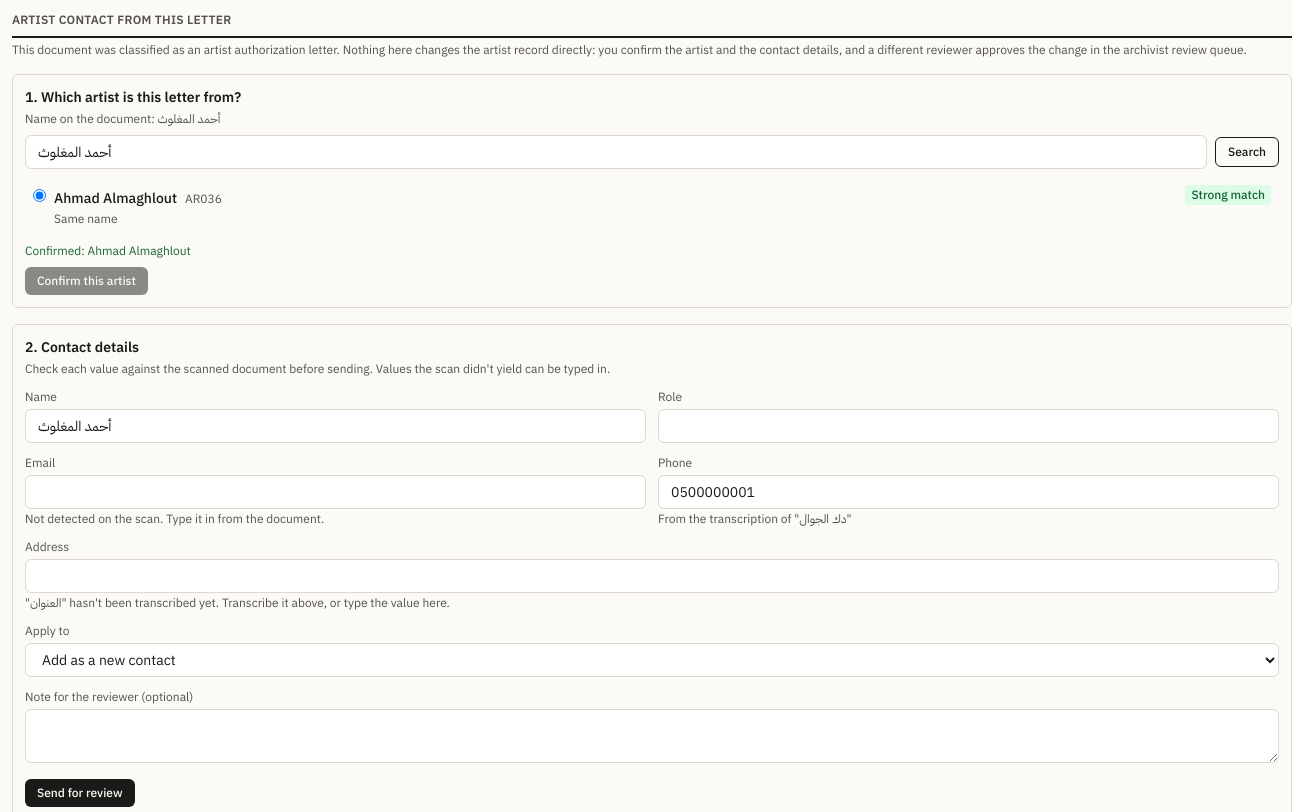
Scenario: OcrArtistContactPanel › proposes the confirmed values and can target an existing contact
Type "ahmad@example.test" into the field with test id "artist-contact-email".
click(336, 492); type("ahmad@example.test")  # box [25,475,646,509]
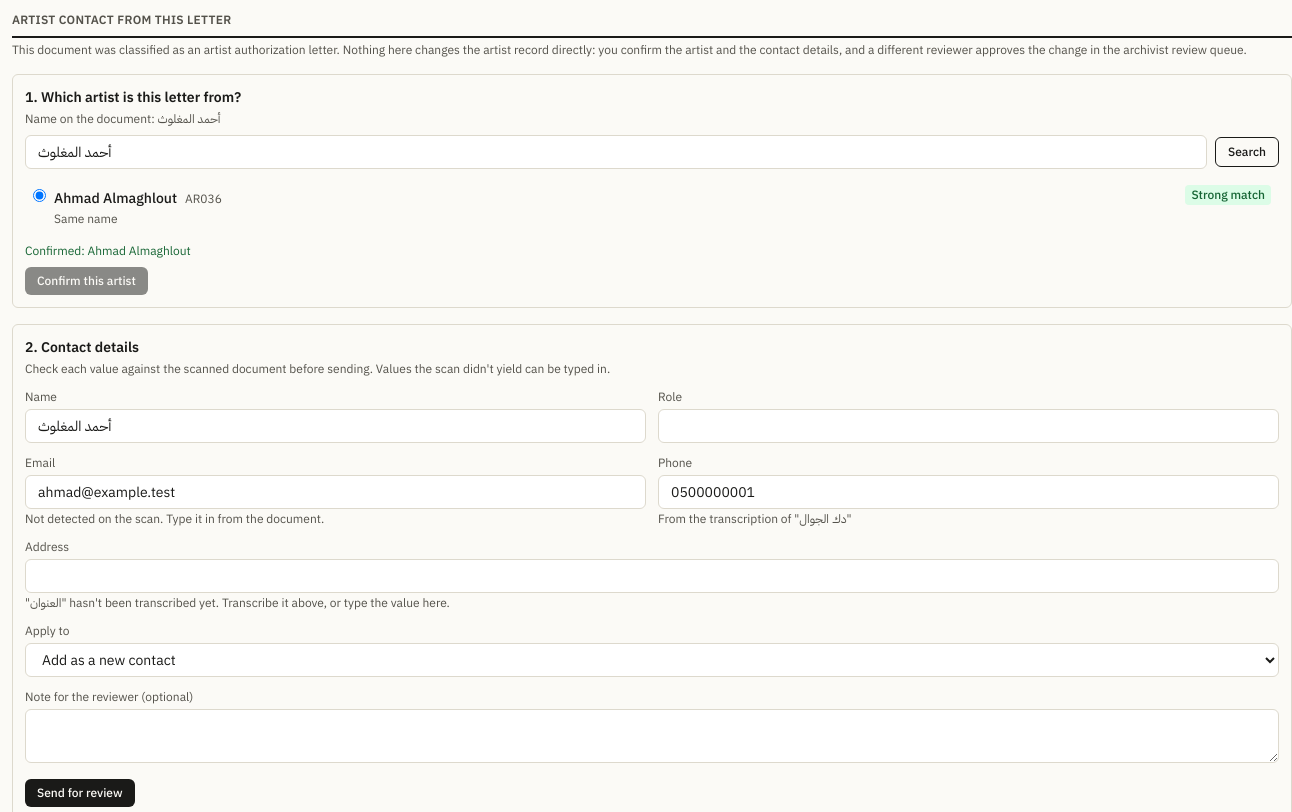
Select "Update Gallery desk" in the dropdown with test id "artist-contact-target" at (652, 660), box [25,643,1279,677]
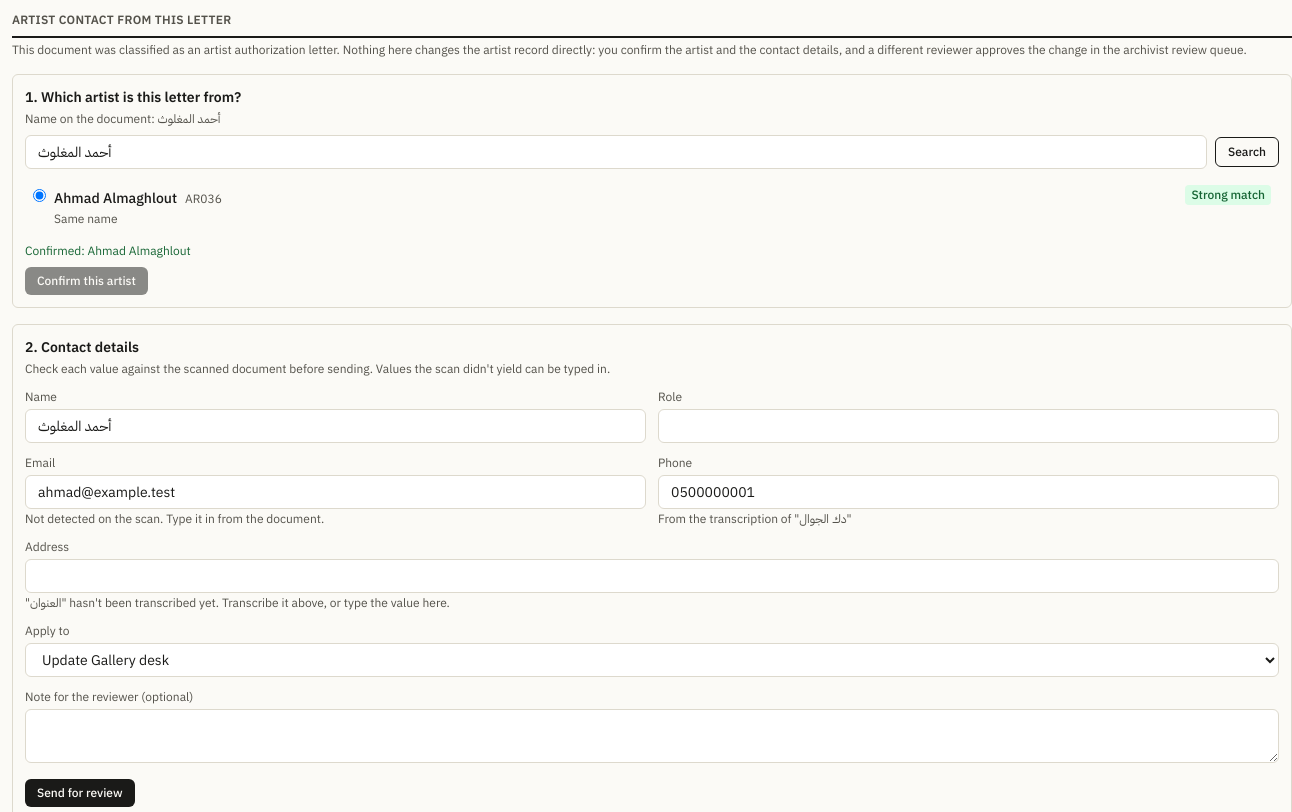
Click the button with test id "artist-contact-propose".
click(80, 793)  # box [25,779,135,807]
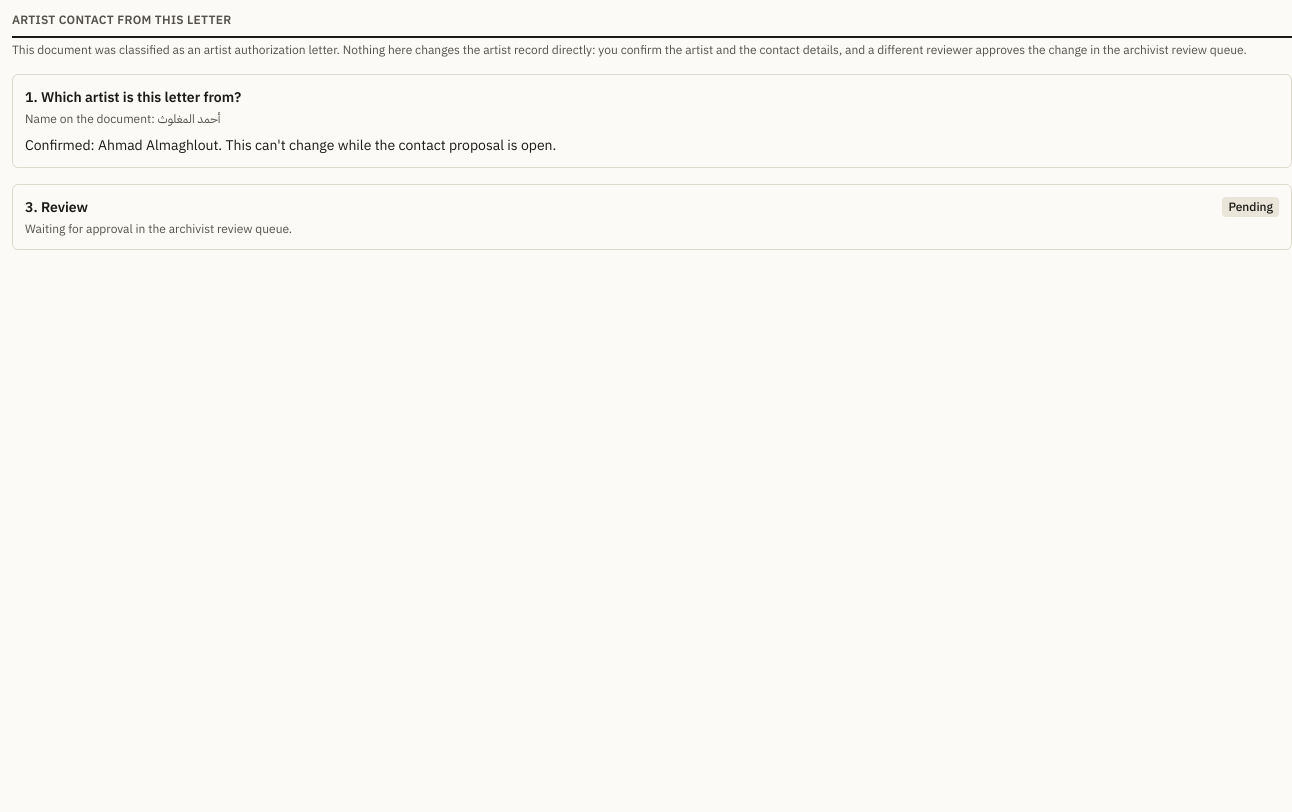
Result: the text with test id "artist-contact-proposal-status" reads "Pending" at [1228,199,1273,214]
